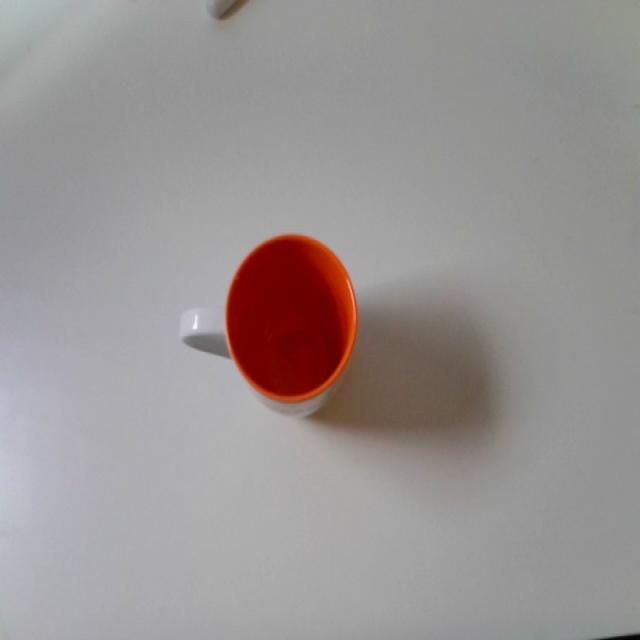White Cup: (222, 232, 360, 418)
